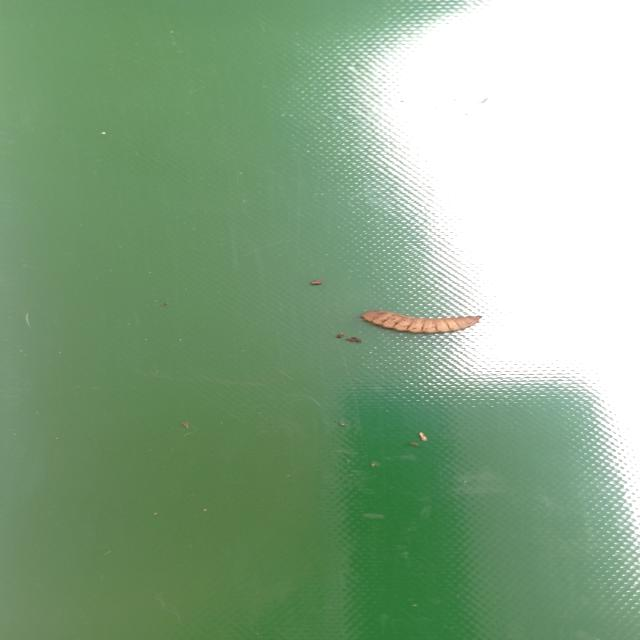Maggot: (359, 311, 481, 337)
